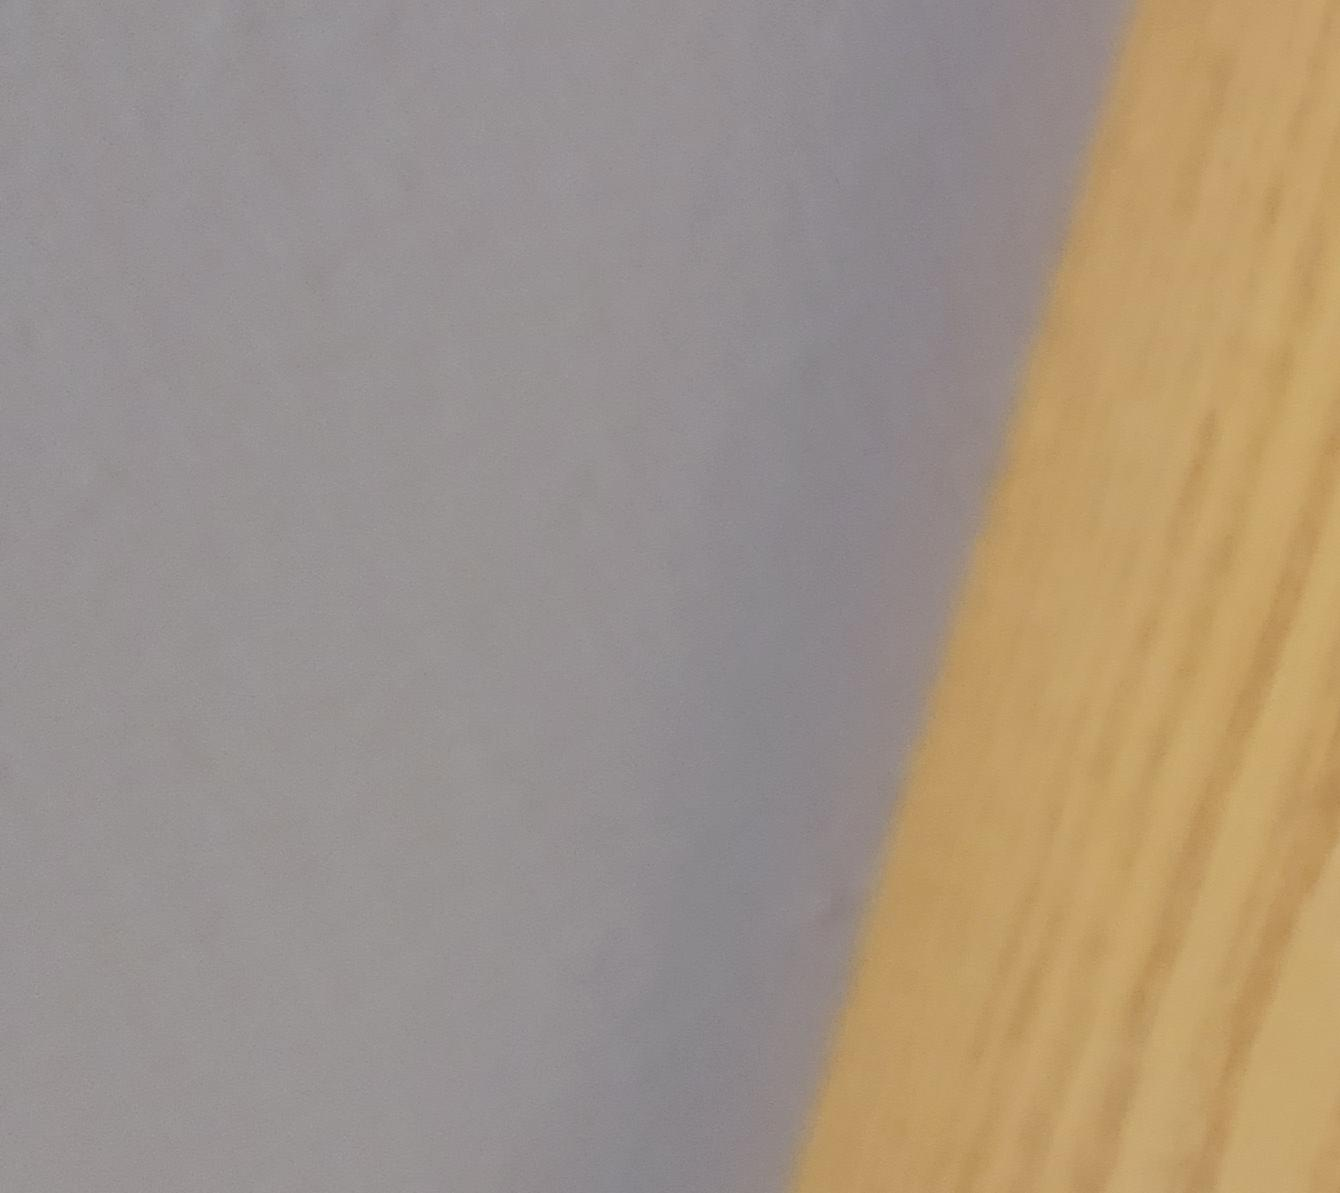Chip: (1, 252, 998, 1193)
